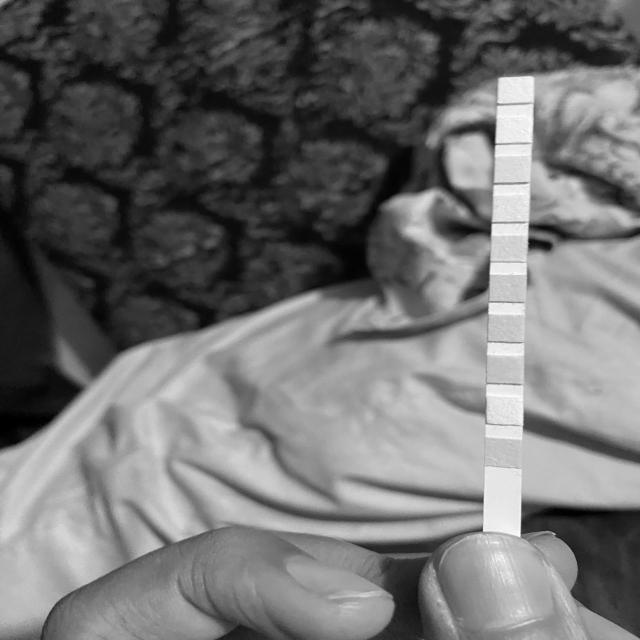Bilirubin: (489, 398, 521, 424)
Blood: (490, 276, 524, 301)
Glucose: (487, 440, 520, 466)
Ketone: (488, 356, 522, 382)
Leukocytes: (501, 79, 532, 101)
Nitrite: (499, 118, 530, 142)
Protein: (494, 197, 527, 221)
SpGravity: (489, 316, 522, 342)
Urobilinogen: (495, 158, 529, 181)
background: (0, 0, 640, 640)
pH: (492, 237, 525, 261)
strip: (483, 76, 533, 528)
